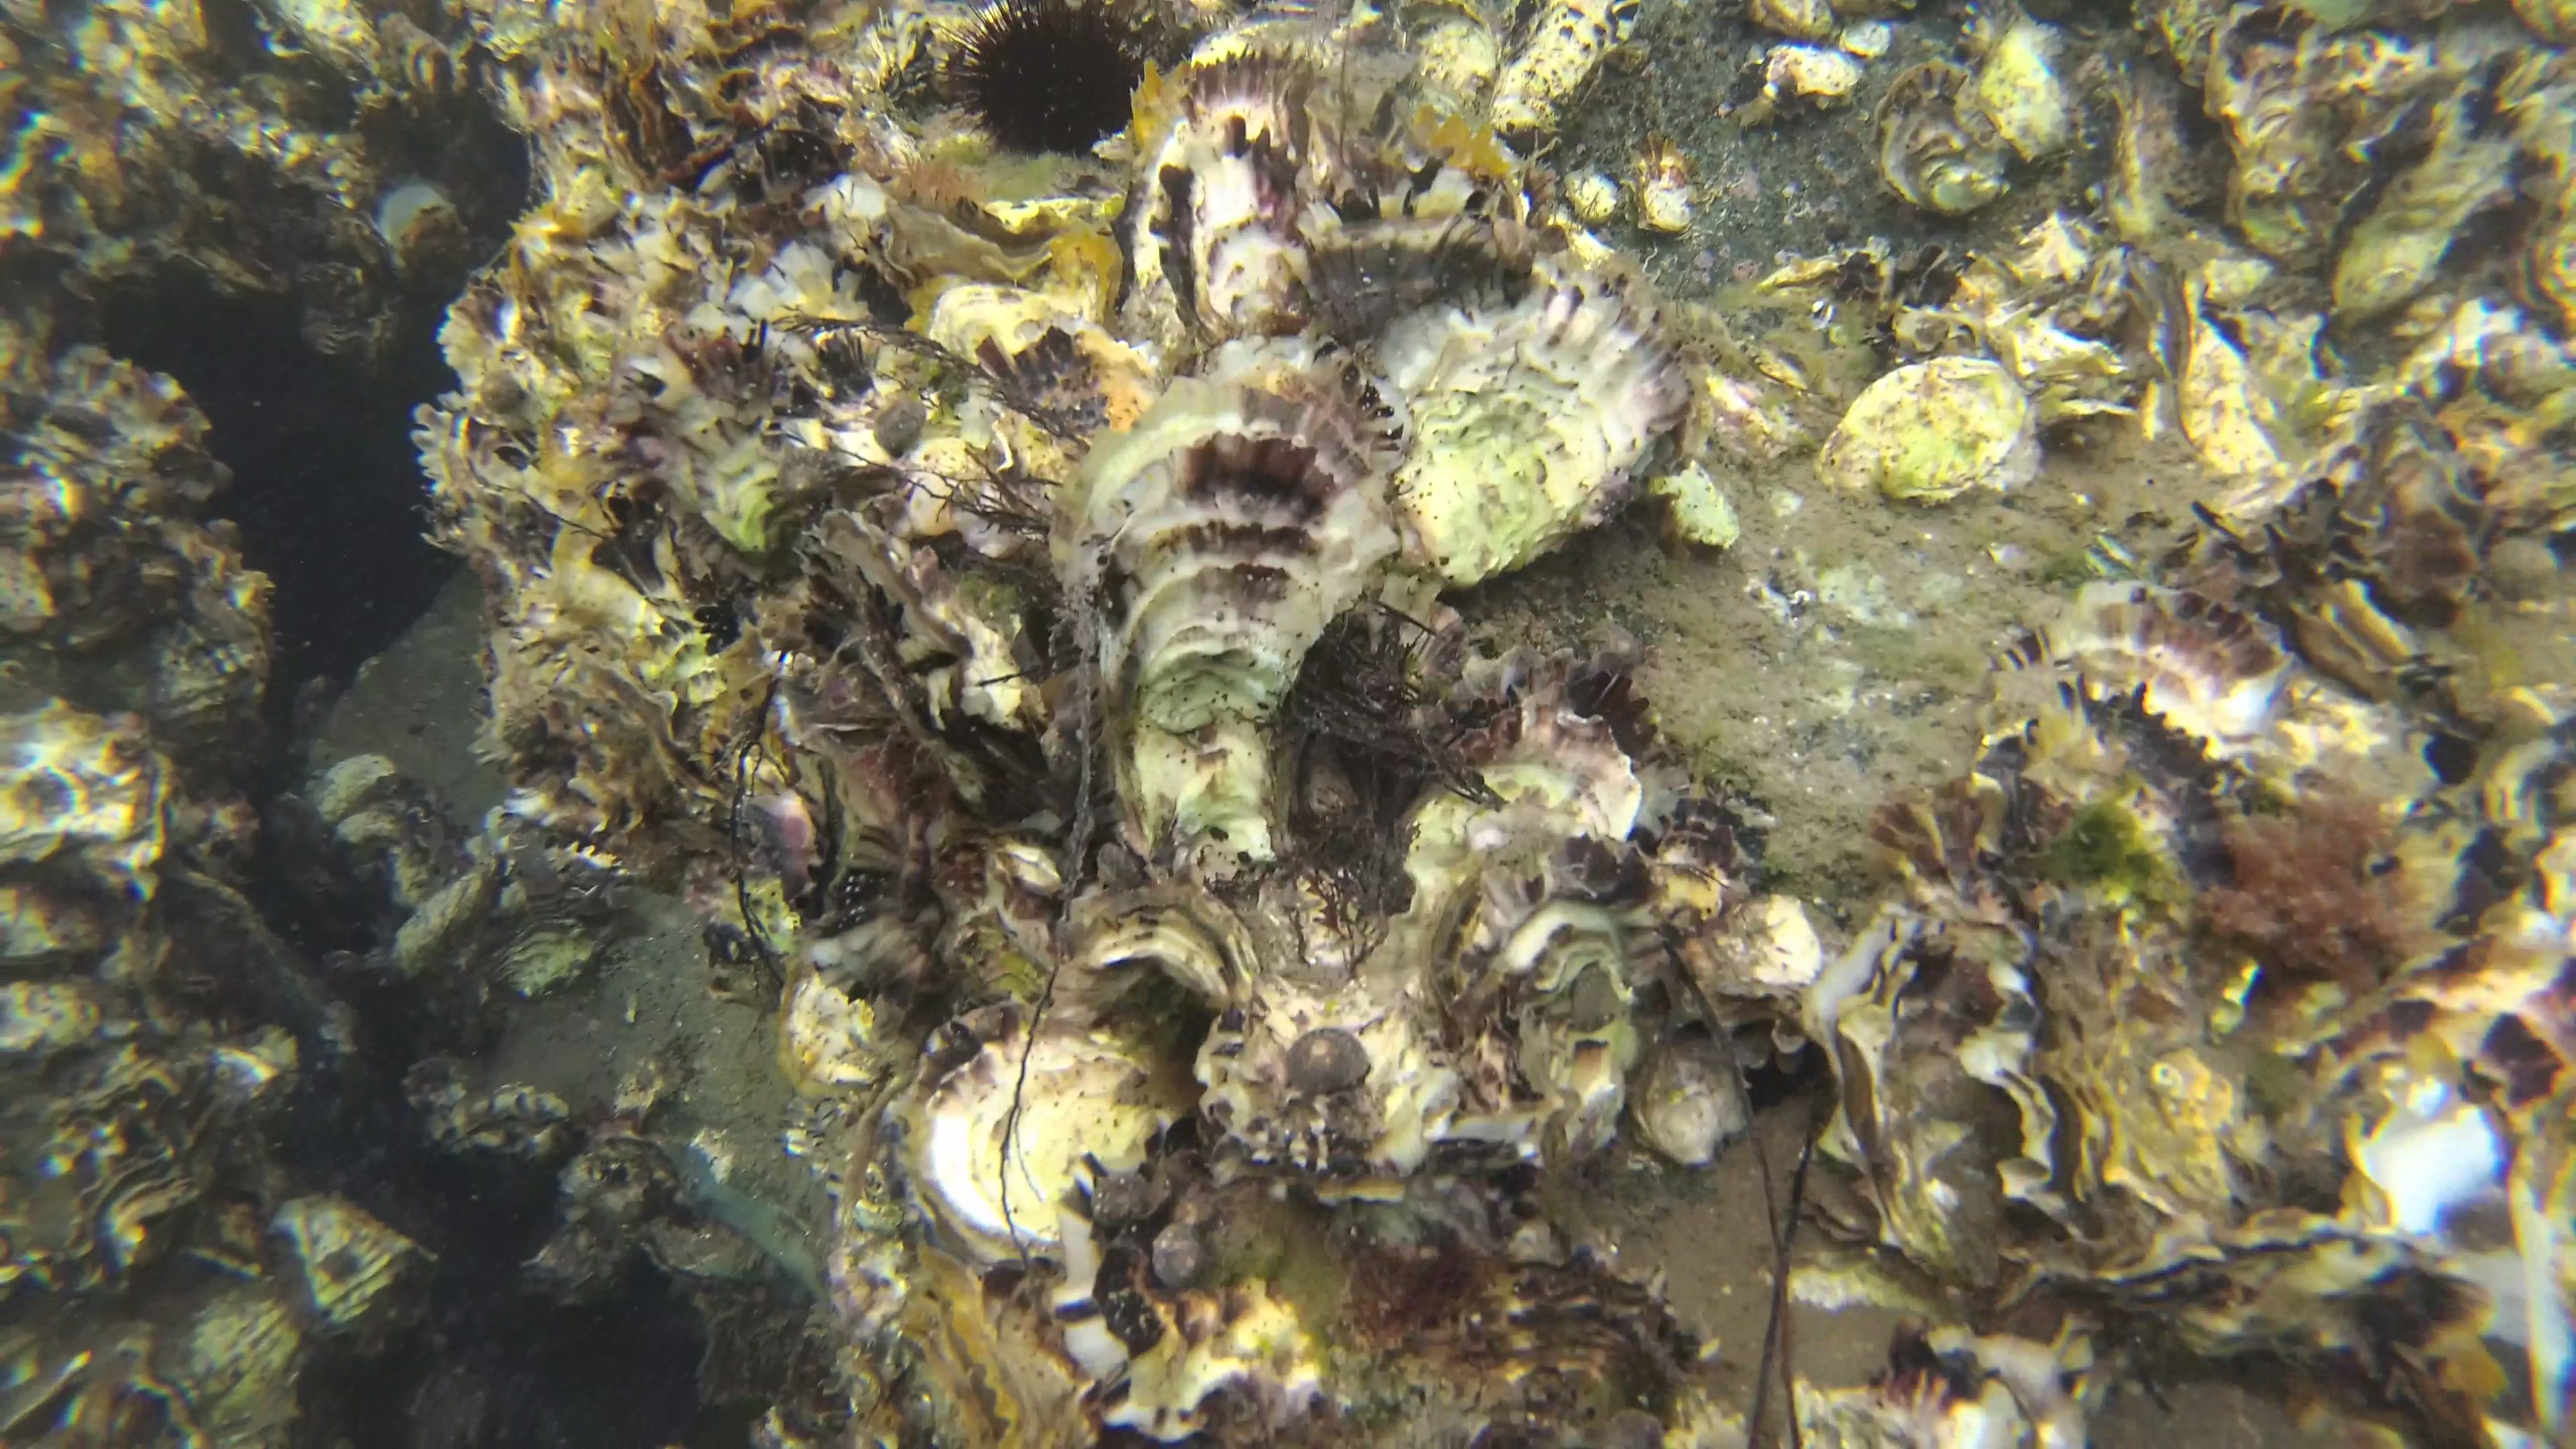echinus: (932, 0, 1155, 166)
